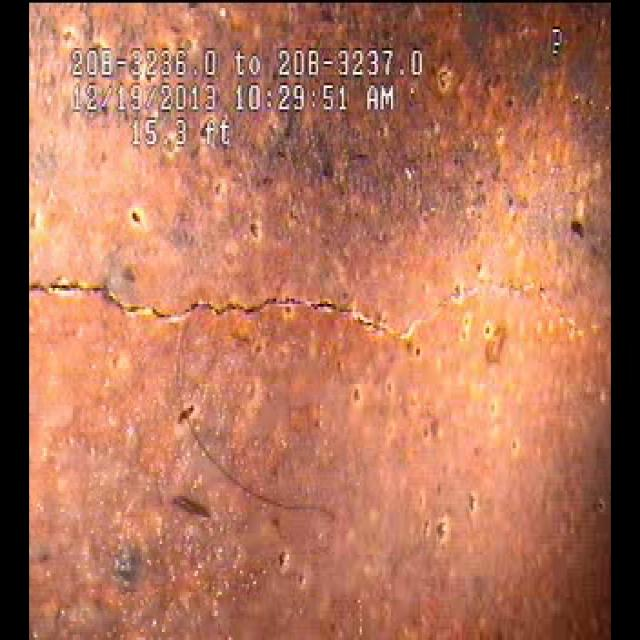Crack: (55, 230, 537, 374)
